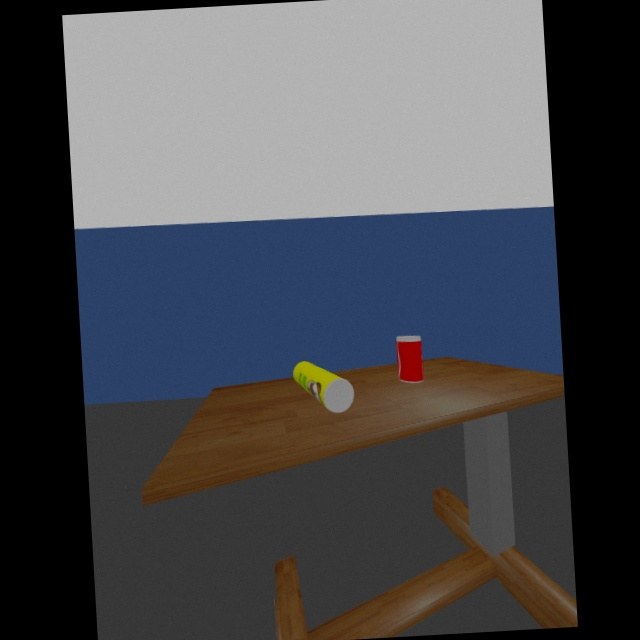chipsdose_gelb: (293, 360, 354, 413)
